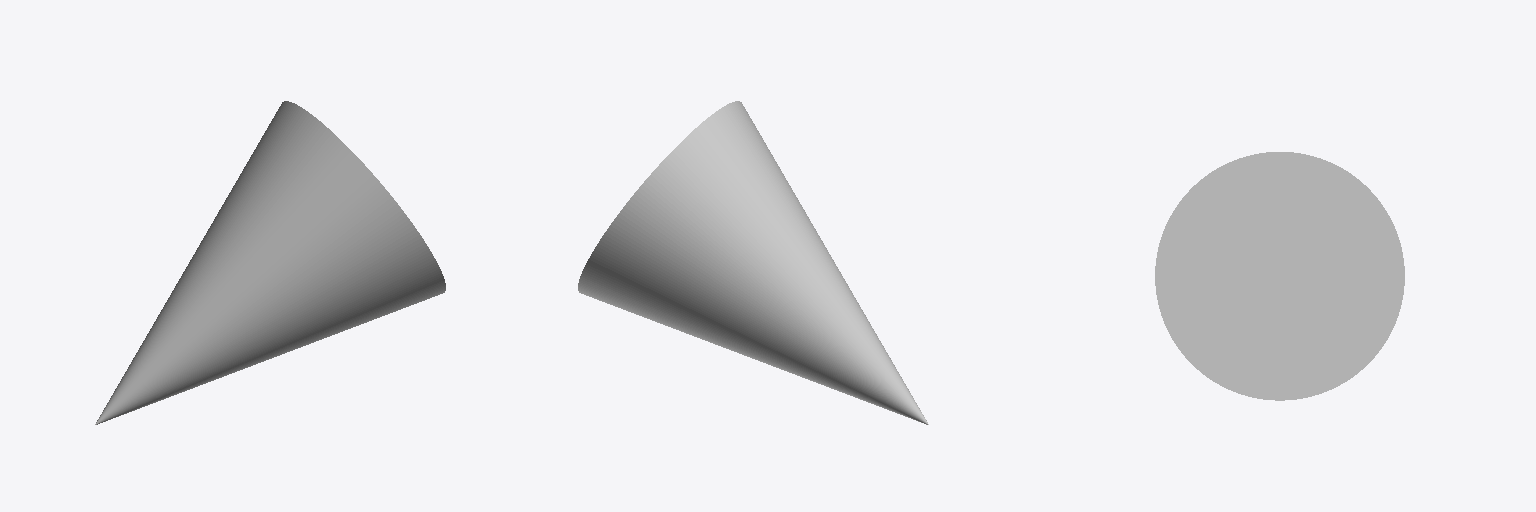
File: mid100-left-fov.obj
The picture shows the model from 3 angles: view 1: azimuth 30°, elevation 25°; view 2: azimuth 150°, elevation 25°; view 3: azimuth 270°, elevation 25°; orthographic projection.
Visible parts, largest first — view 1: NONE006; view 2: NONE006; view 3: NONE006.
Part boxes in pixels (x1,y1,x2,y2): NONE006: (95, 101, 445, 424); NONE006: (578, 101, 928, 424); NONE006: (1155, 152, 1404, 400).
Bounding box in the file's own units: 17667 × 13615 × 11830.